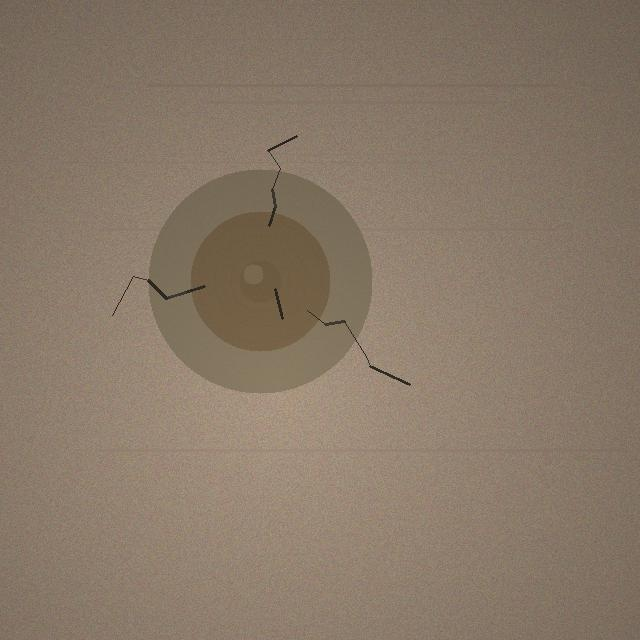crack: (148, 169, 372, 393)
